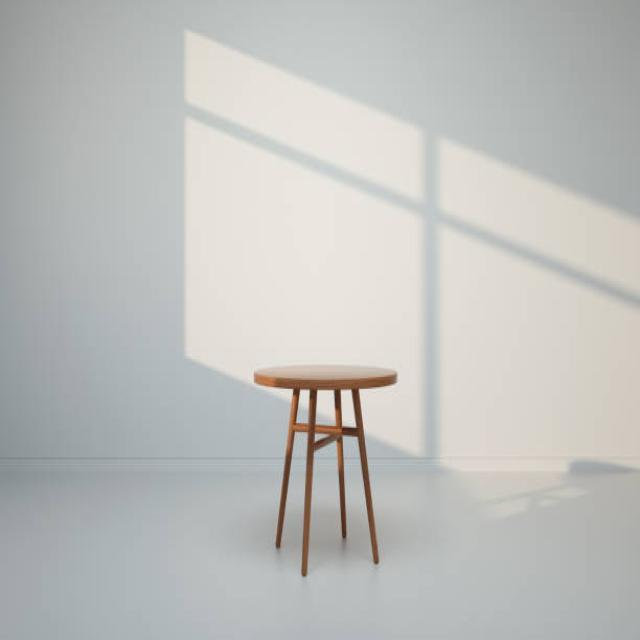table: (252, 362, 397, 576)
